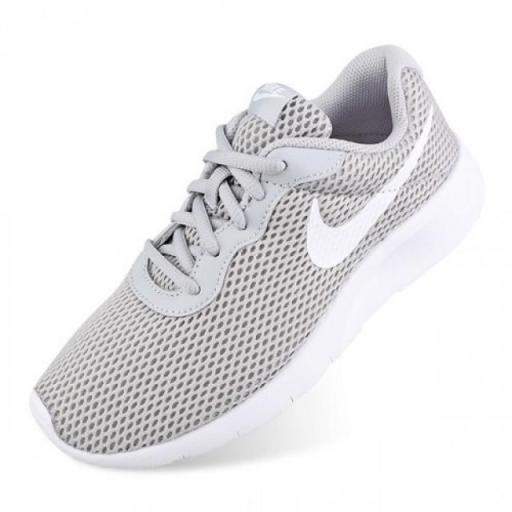Nike: (303, 106, 437, 274)
